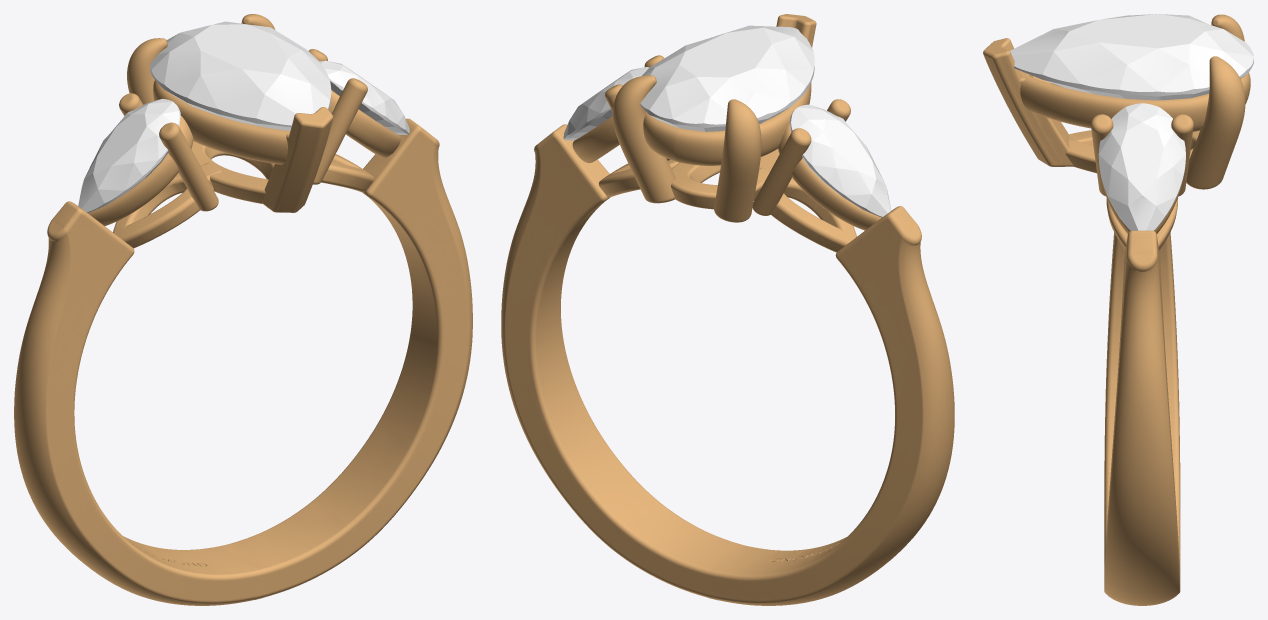
Rendered from diamond-ring.glb.
3 renders of one model, left to right at view 1: azimuth 30°, elevation 25°; view 2: azimuth 150°, elevation 25°; view 3: azimuth 270°, elevation 25°, orthographic.
Visible parts, largest first — view 1: /trio tiger prongs.3dm, Diamond_Pear; view 2: /trio tiger prongs.3dm, Diamond_Pear; view 3: /trio tiger prongs.3dm, Diamond_Pear.
Part boxes in pixels (x1,y1,x2,y2): /trio tiger prongs.3dm: (14,14,472,605); Diamond_Pear: (78,21,409,212); /trio tiger prongs.3dm: (501,14,954,605); Diamond_Pear: (563,25,891,217); /trio tiger prongs.3dm: (983,14,1250,605); Diamond_Pear: (1010,14,1253,230).
Bounding box in the file's own units: 2.47 × 2.88 × 1.29.
